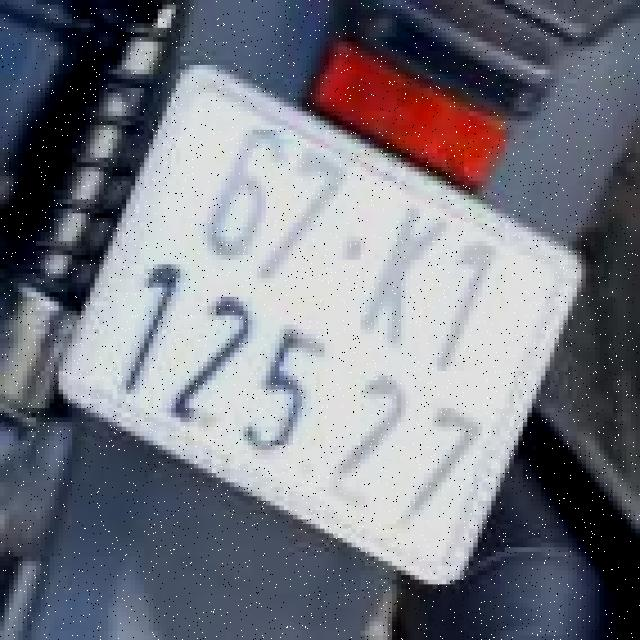1: (420, 225, 522, 380), (108, 248, 203, 405)
2: (163, 280, 272, 442), (318, 362, 427, 519)
5: (238, 310, 345, 471)
6: (195, 109, 304, 275)
7: (380, 387, 494, 546), (248, 137, 359, 296)
K: (349, 186, 463, 364)
